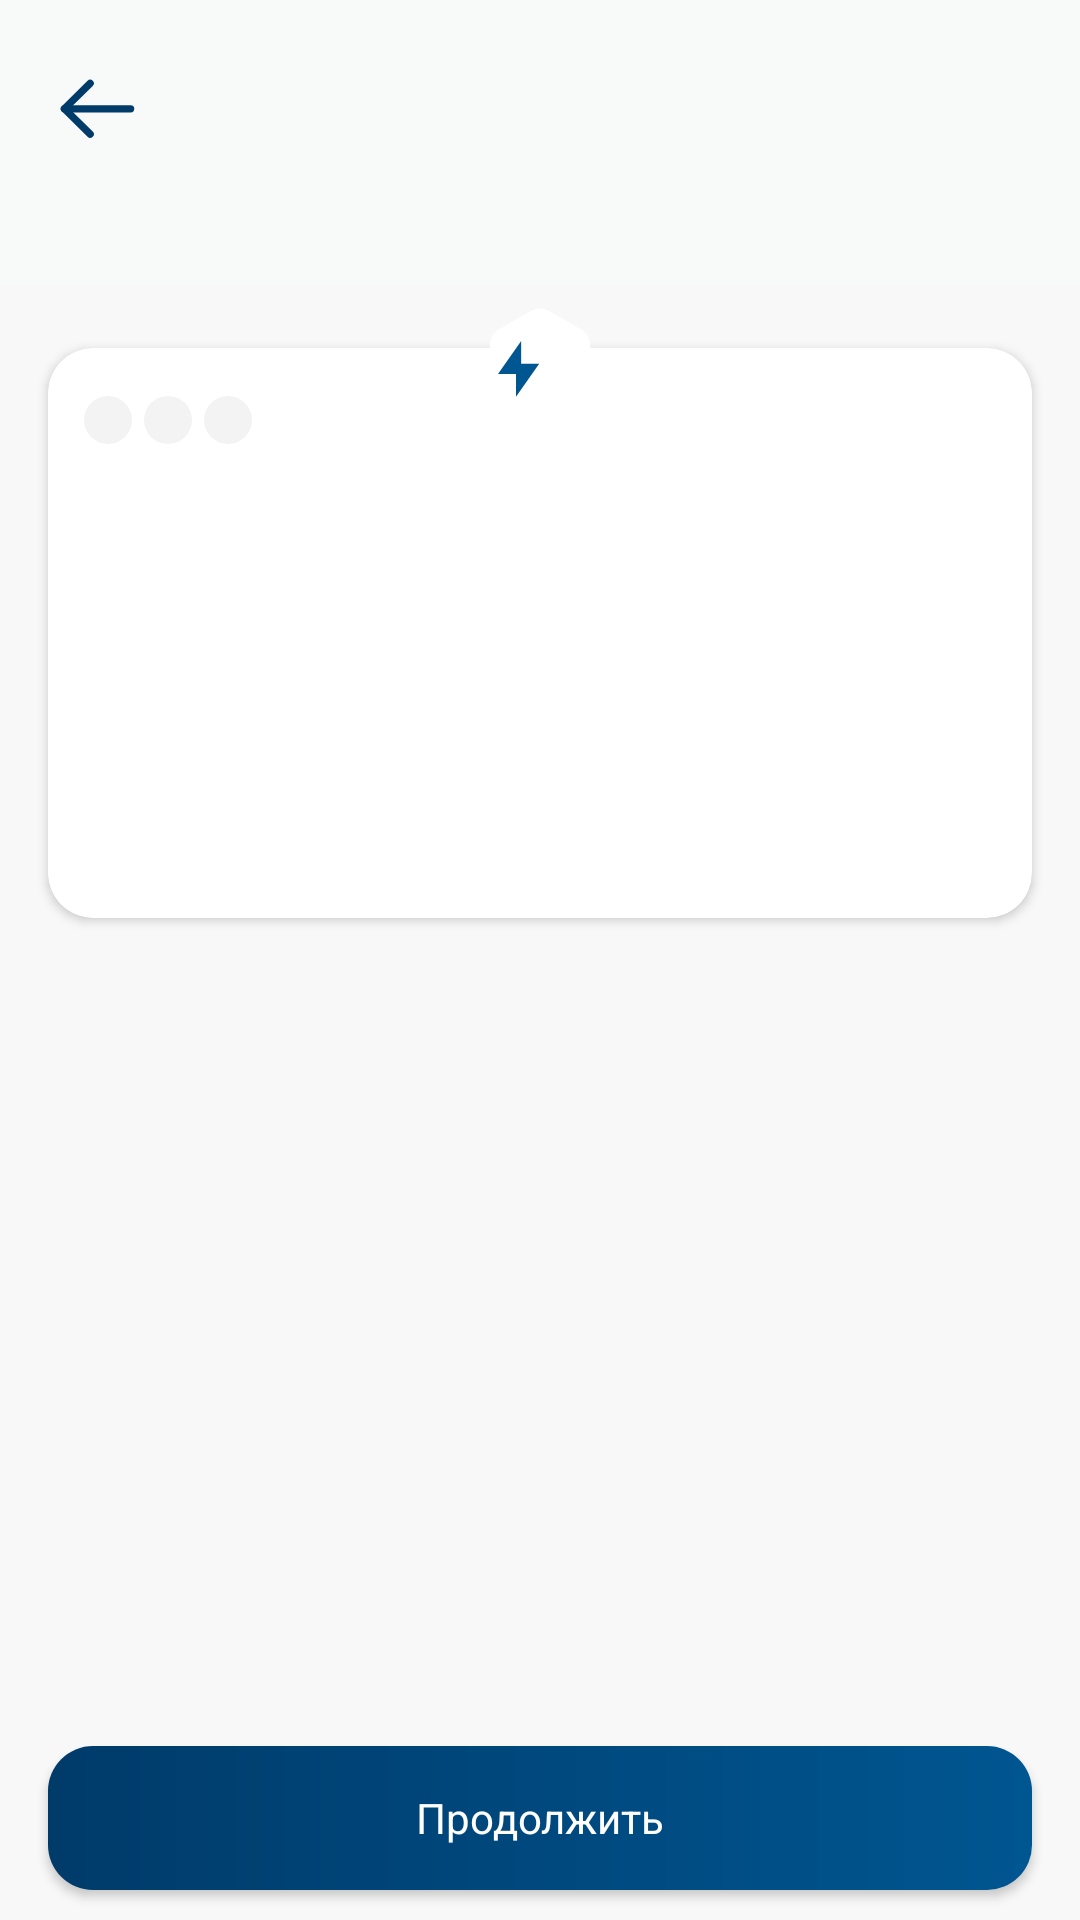

Icons on this 1080x1920 Android screen, each with its box as (x1, y1, x2, y2):
back cursor: (60, 79, 135, 138)
thunder: (498, 341, 539, 397)
